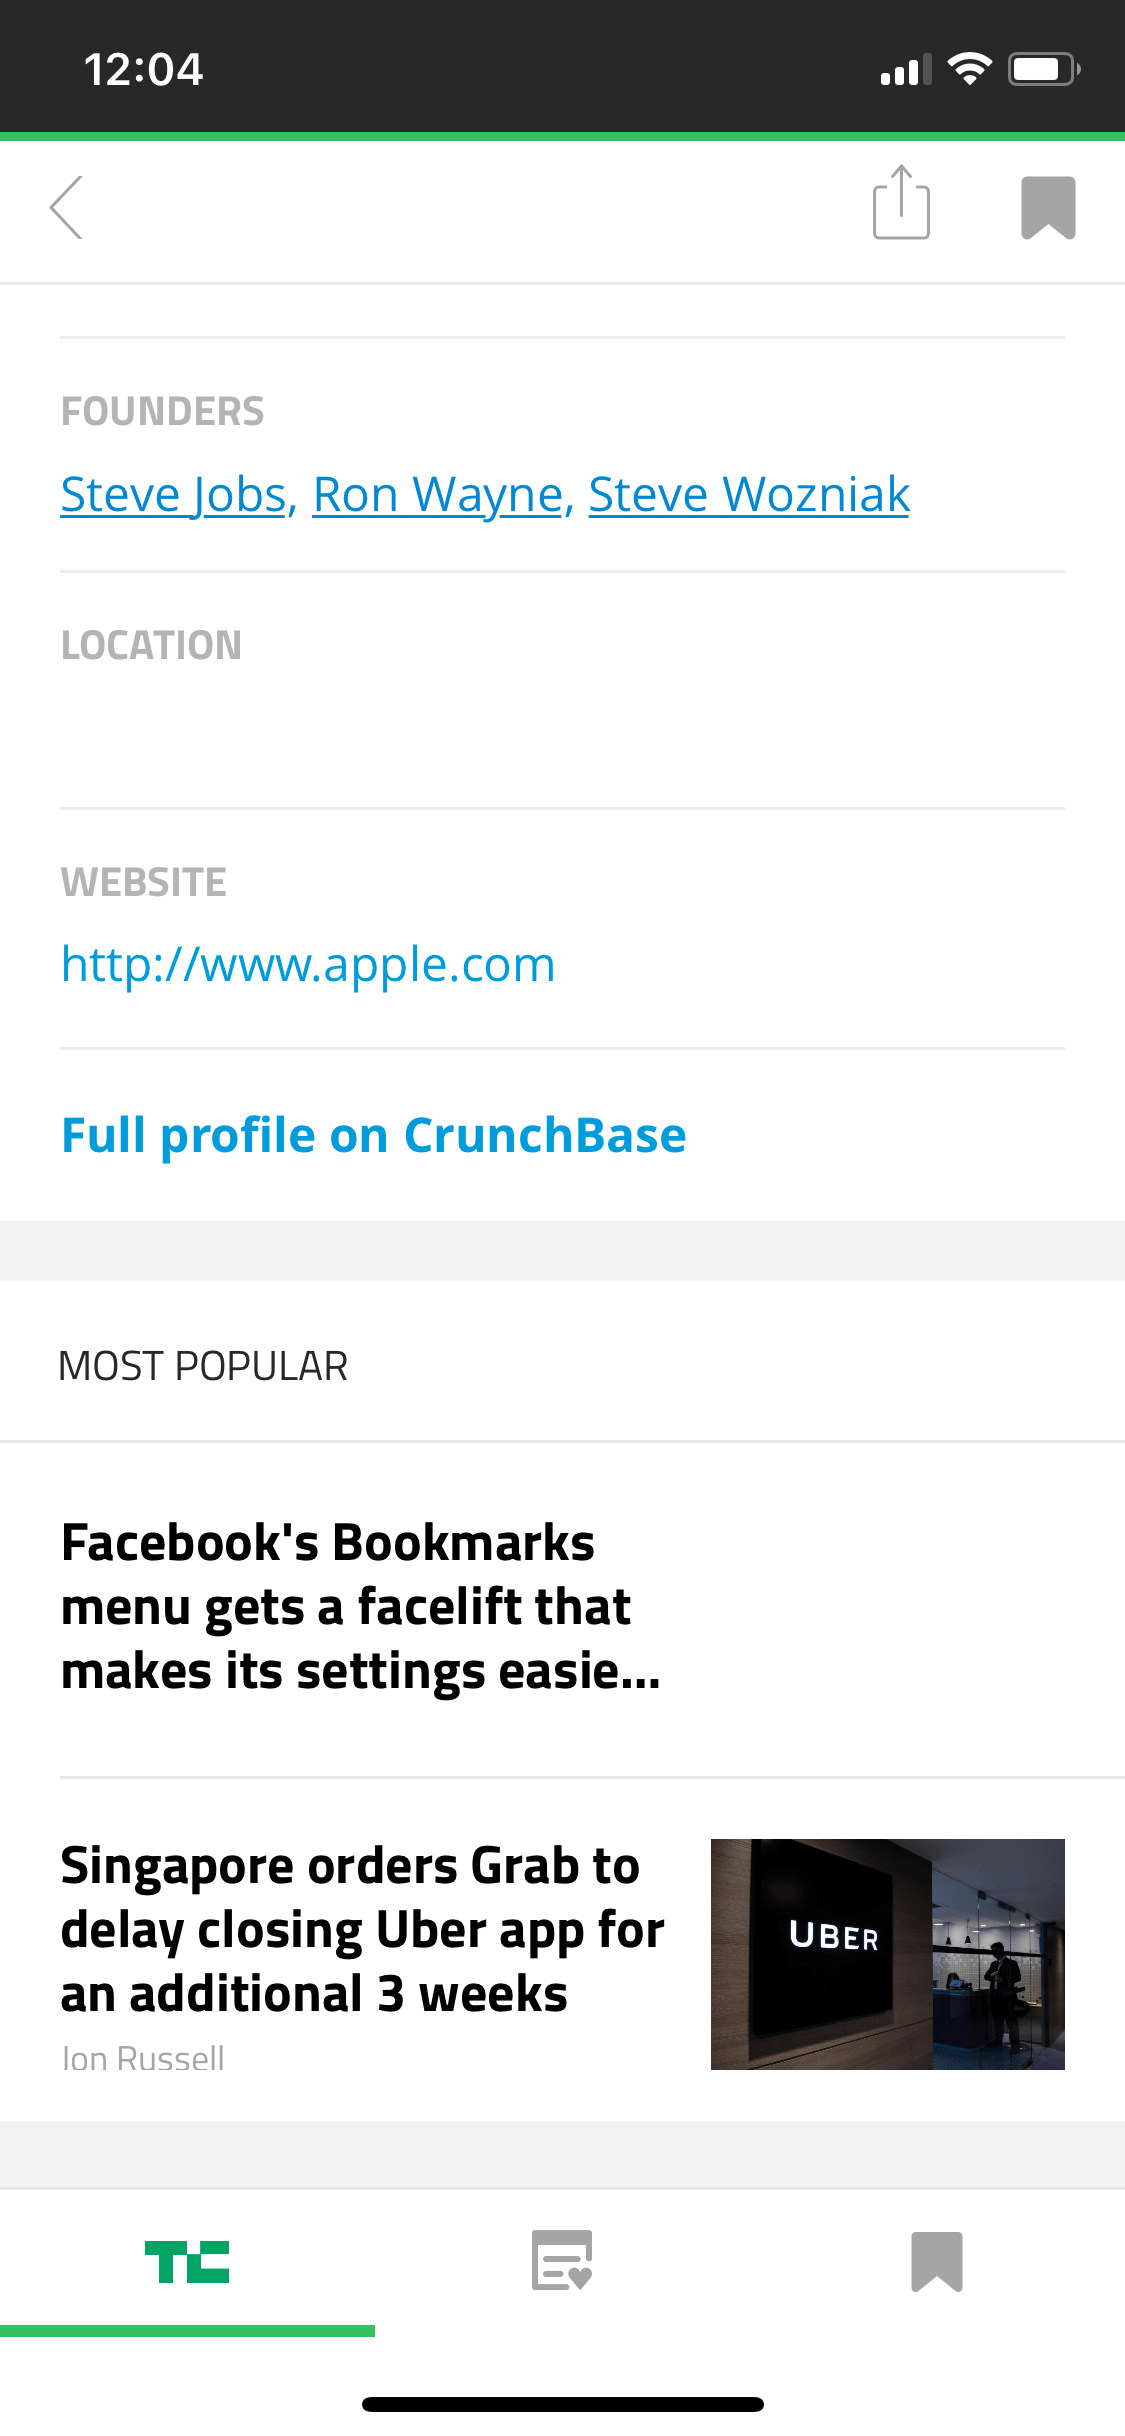Buttons: (8, 141, 134, 270), (988, 148, 1117, 266), (844, 155, 946, 266)
Text Fields: (26, 342, 1043, 573), (37, 833, 1036, 1033), (37, 598, 1035, 792)
